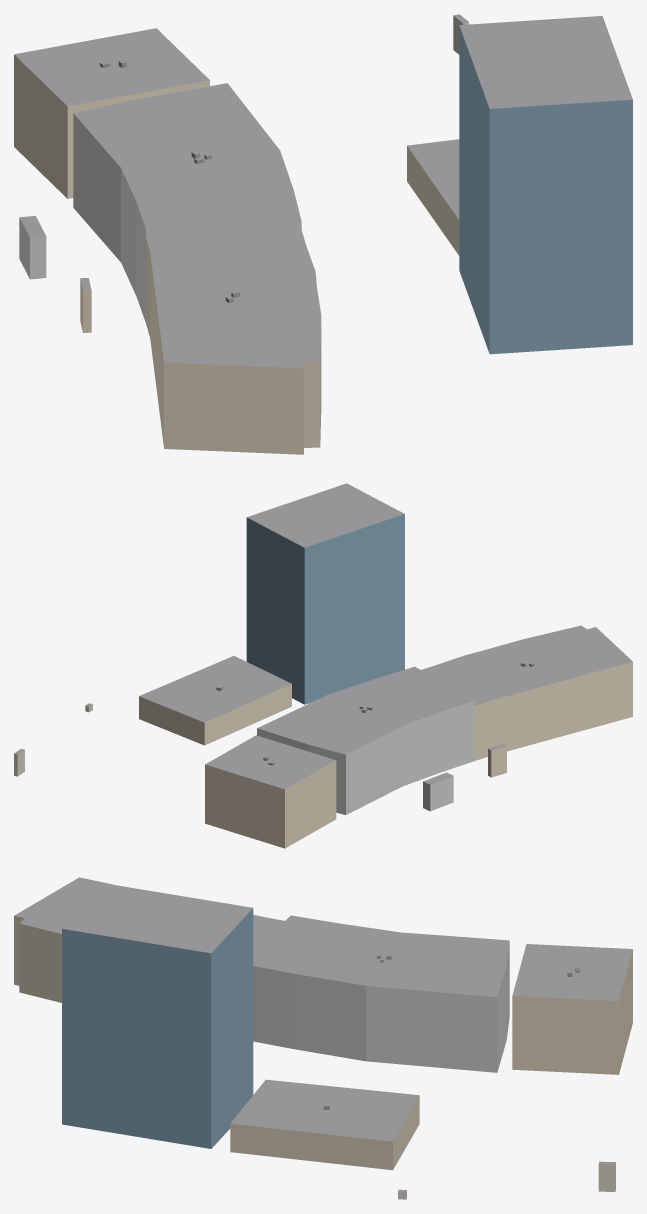
The model's file is building_2_5.glb.
The picture shows the model from 3 angles, top to bottom: view 1: azimuth 30°, elevation 25°; view 2: azimuth 150°, elevation 25°; view 3: azimuth 270°, elevation 25°; orthographic projection. The views are drawn at different scales.
Visible parts, largest first — view 1: roof, glass_blue, sandstone, concrete_light; view 2: roof, glass_blue, sandstone, concrete_light; view 3: roof, glass_blue, concrete_light, sandstone, concrete_warm.
Part boxes in pixels (box(x1,y1,x2,y2)): roof: box(14, 14, 632, 368); glass_blue: box(459, 26, 632, 354); sandstone: box(14, 55, 459, 454); concrete_light: box(19, 113, 301, 322); roof: box(14, 483, 632, 789); glass_blue: box(246, 514, 404, 704); sandstone: box(139, 661, 632, 848); concrete_light: box(257, 700, 474, 814); roof: box(14, 877, 632, 1192); glass_blue: box(62, 908, 253, 1148); concrete_light: box(253, 942, 509, 1072); sandstone: box(14, 916, 632, 1170); concrete_warm: box(398, 1162, 615, 1199).
Size of the model in its own units: 244 by 88 by 252.
